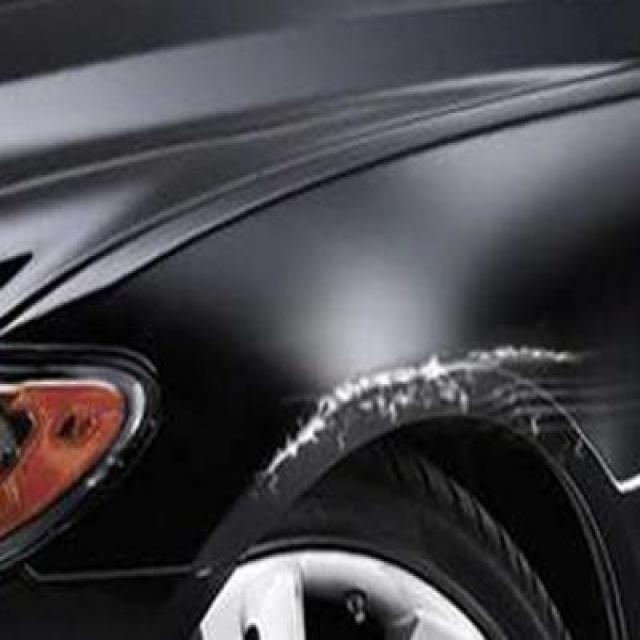scratch: (242, 307, 612, 534)
